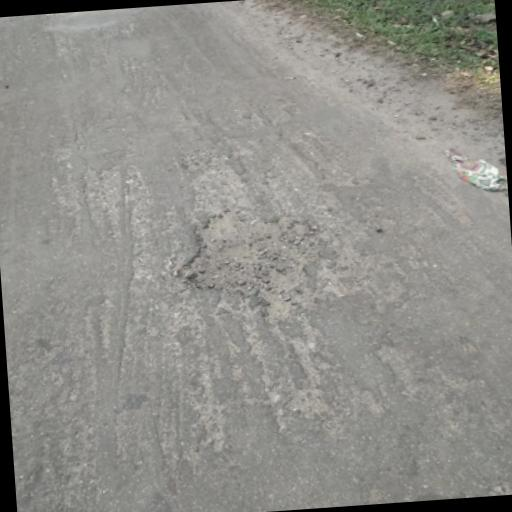pothole: (176, 201, 330, 302)
